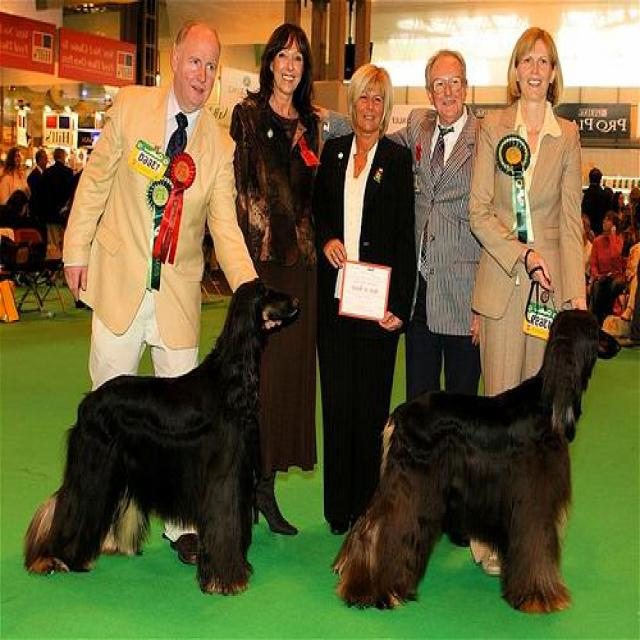afghan_hound: (23, 278, 303, 594), (332, 308, 622, 610)
